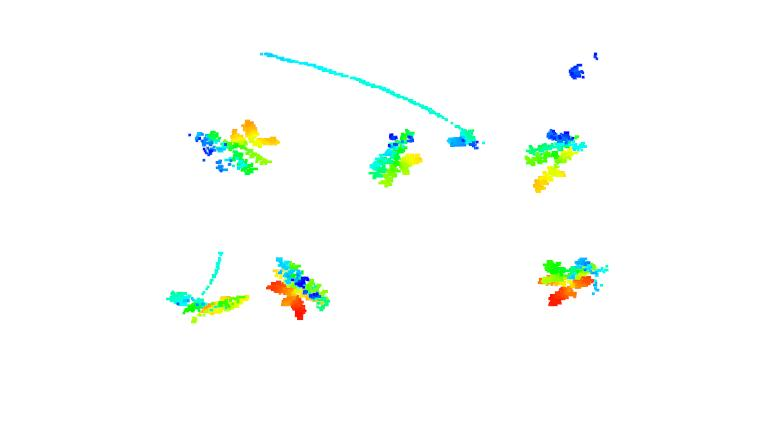chickpea: (192, 119, 281, 176), (524, 126, 590, 193), (267, 257, 330, 322), (537, 256, 606, 309), (364, 128, 425, 187), (163, 286, 249, 326), (445, 125, 488, 152)
